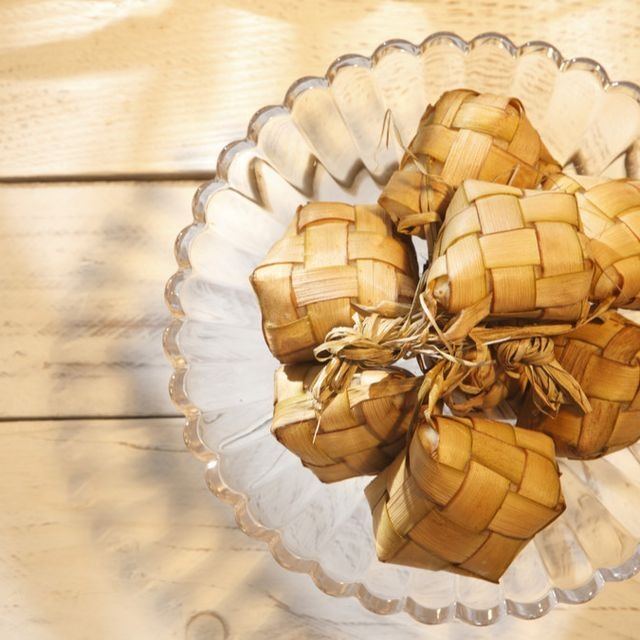ketupat: (361, 412, 565, 586), (249, 199, 420, 367), (423, 180, 596, 318)
